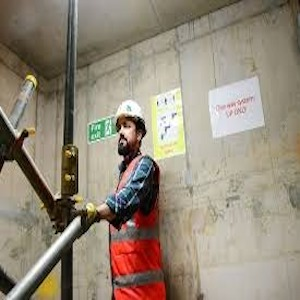safety: (116, 99, 147, 123)
vest: (110, 154, 165, 297)
